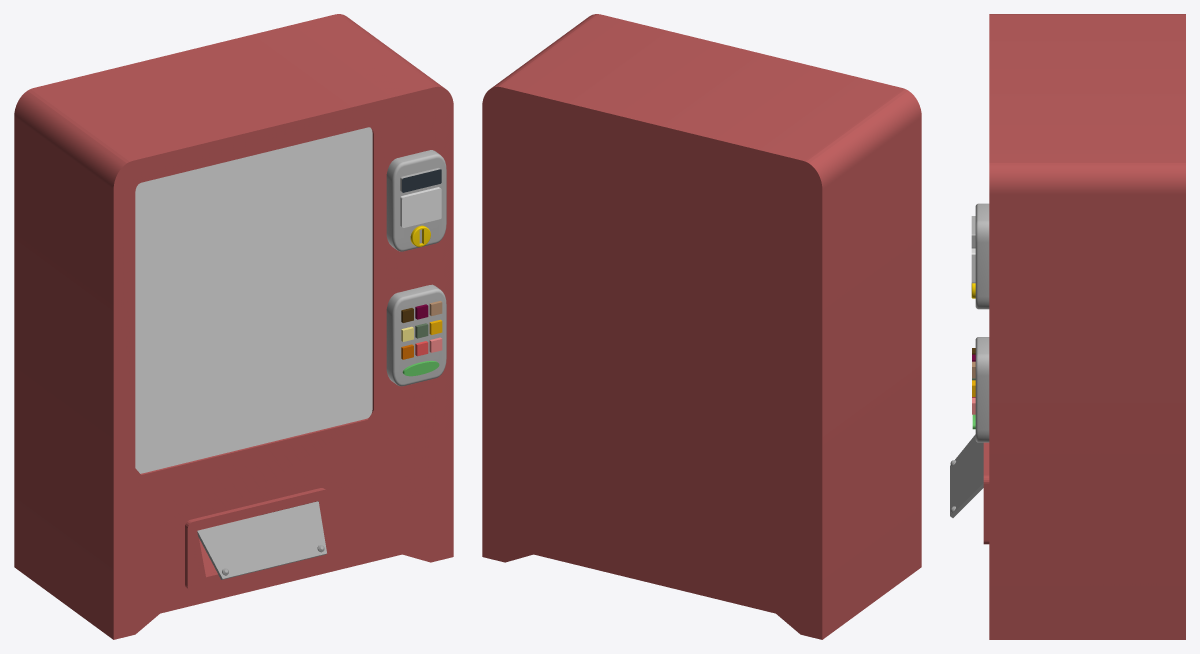
File: expendedora3.fbx
The picture shows the model from 3 angles, left to right: view 1: azimuth 30°, elevation 25°; view 2: azimuth 150°, elevation 25°; view 3: azimuth 270°, elevation 25°; orthographic projection.
Visible parts, largest first — view 1: Maquina, vidrio, Frente, Cube.001, Seleccionador, Monedero, display, boton_pagar; view 2: Maquina; view 3: Maquina, Frente, Monedero, Seleccionador, Cube.001.
Part boxes in pixels (left/top/right/bottom): Maquina: left=14, top=14, right=453, bottom=639; vidrio: left=135, top=127, right=372, bottom=473; Frente: left=197, top=501, right=326, bottom=579; Cube.001: left=185, top=488, right=328, bottom=590; Seleccionador: left=386, top=284, right=446, bottom=386; Monedero: left=386, top=150, right=446, bottom=251; display: left=400, top=187, right=441, bottom=227; boton_pagar: left=400, top=168, right=441, bottom=192; Maquina: left=482, top=14, right=921, bottom=639; Maquina: left=989, top=14, right=1185, bottom=639; Frente: left=950, top=434, right=983, bottom=517; Monedero: left=975, top=203, right=989, bottom=309; Seleccionador: left=975, top=337, right=989, bottom=442; Cube.001: left=983, top=442, right=989, bottom=544.
Bounding box in the file's own units: 2.16 × 2.88 × 1.31.
